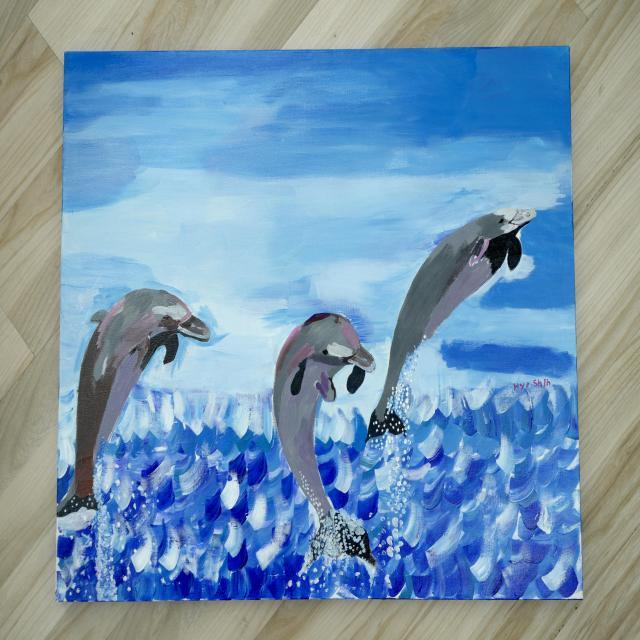painting: (56, 47, 582, 601)
